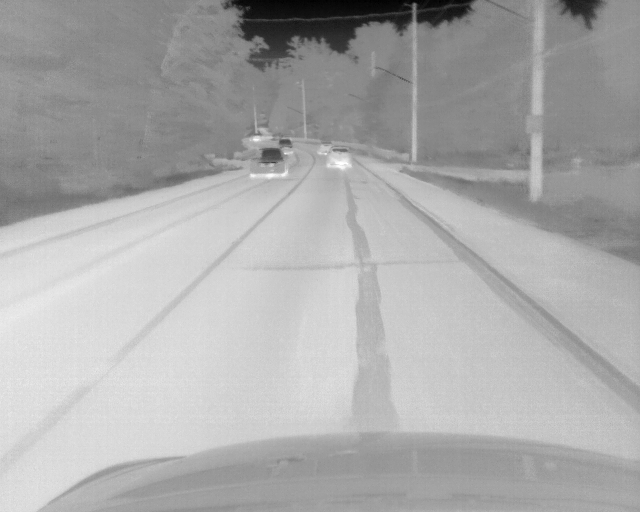car: (248, 145, 288, 179), (325, 147, 352, 170), (280, 136, 294, 155), (317, 142, 332, 156)
